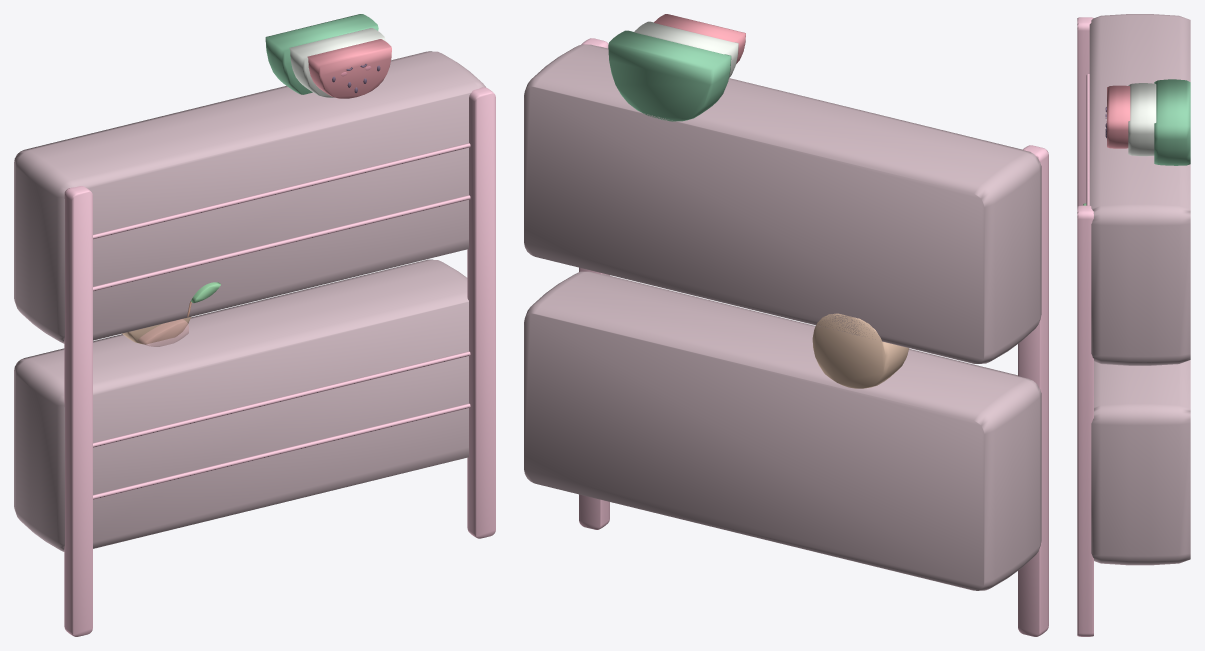
The model's file is decor_1_candy.glb.
3 views of the same model, side by side, from view 1: azimuth 30°, elevation 25°; view 2: azimuth 150°, elevation 25°; view 3: azimuth 270°, elevation 25° (orthographic). The views are drawn at different scales.
Visible parts, largest first — view 1: decor_1_candy; view 2: decor_1_candy; view 3: decor_1_candy.
Part boxes in pixels (x1,y1,x2,y2): decor_1_candy: (14,14,495,636); decor_1_candy: (524,14,1048,636); decor_1_candy: (1077,14,1190,636).
Size of the model in its own units: 17.42 by 19.18 by 4.11.
